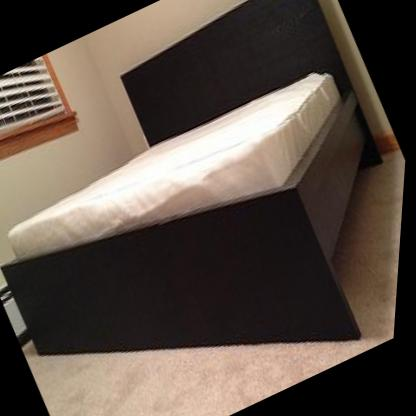Bed: (6, 0, 373, 357)
Carpet: (27, 346, 376, 416)
